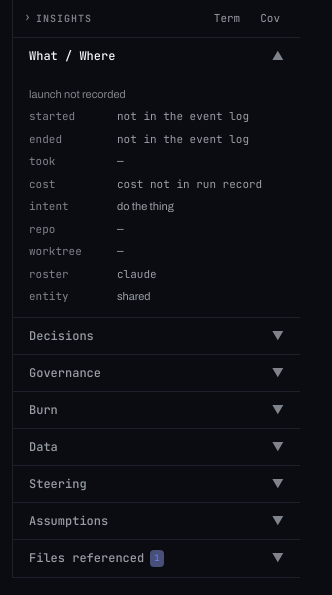
Scenario: RightPanel Files tab — slice I inline viewer + preserved openPath/copy › a daemon WITHOUT the file routes (generic 404): the row click falls back to the external open
Click the button "Files referenced 1 ▼" at [156, 558], box [13,540,300,577]
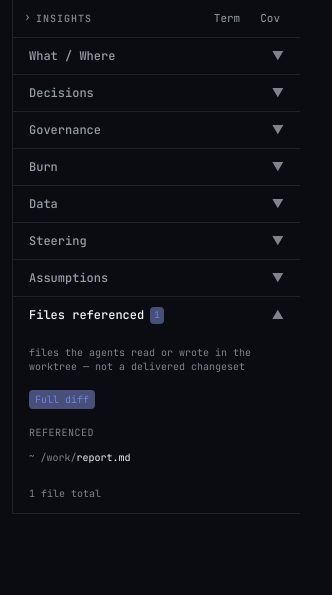
Click the button "/work/report.md" at [150, 458], box [40,448,260,468]
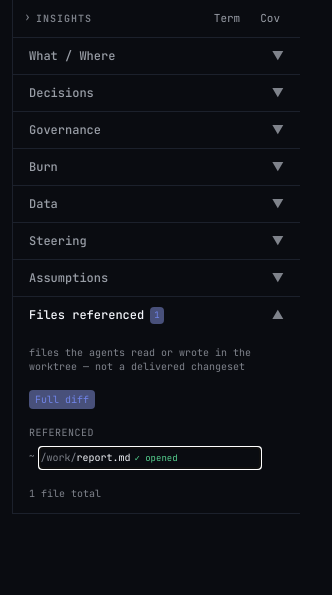
expect the text "✓ opened" is shown: met, box [134,452,178,464]
